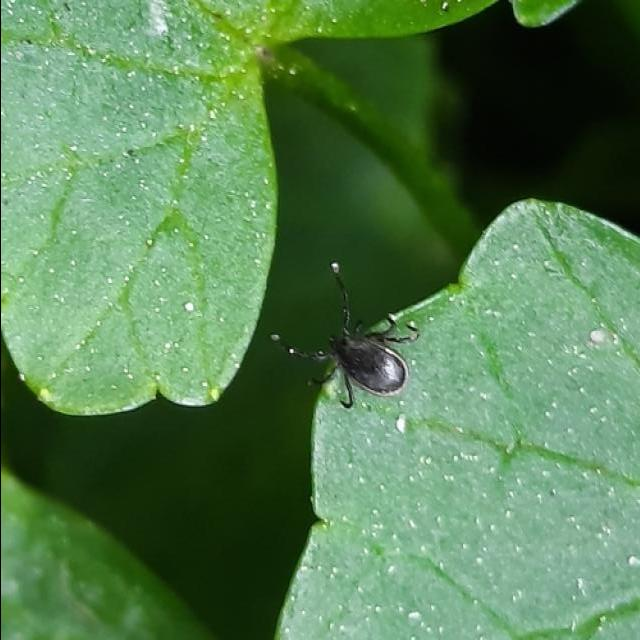Ixodes Ricinus-M: (280, 260, 415, 407)
